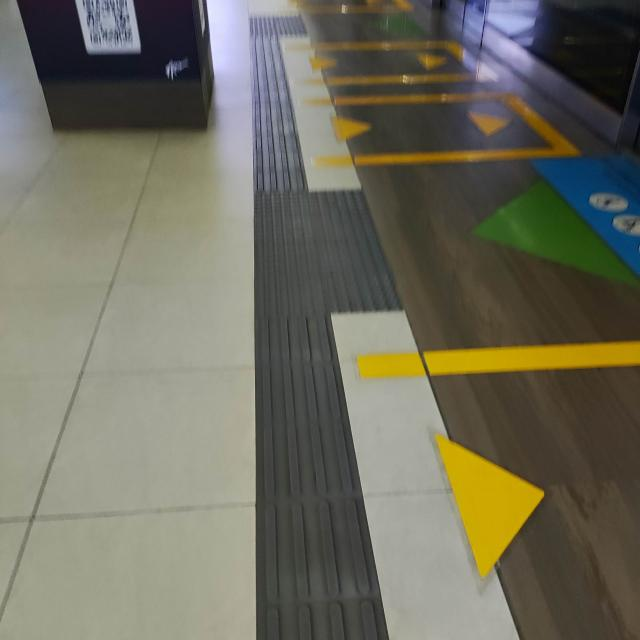lurus: (248, 302, 373, 640), (240, 39, 319, 194)
